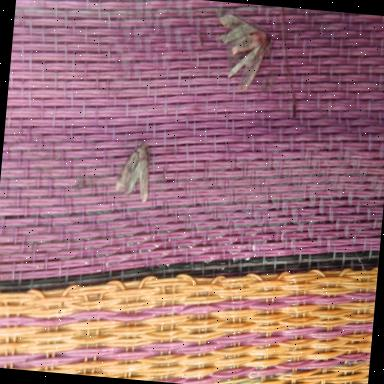pbw: (213, 15, 274, 94), (114, 140, 152, 204)
